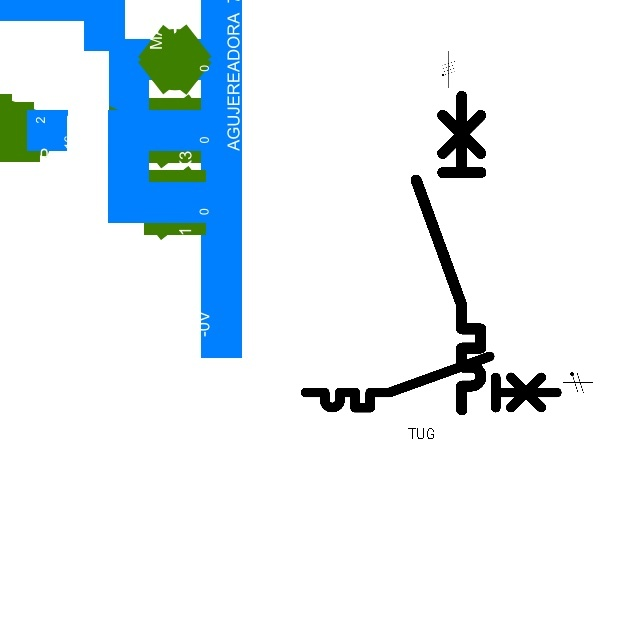interruptor_termomagnetico: (408, 88, 489, 418), (299, 350, 563, 414)
